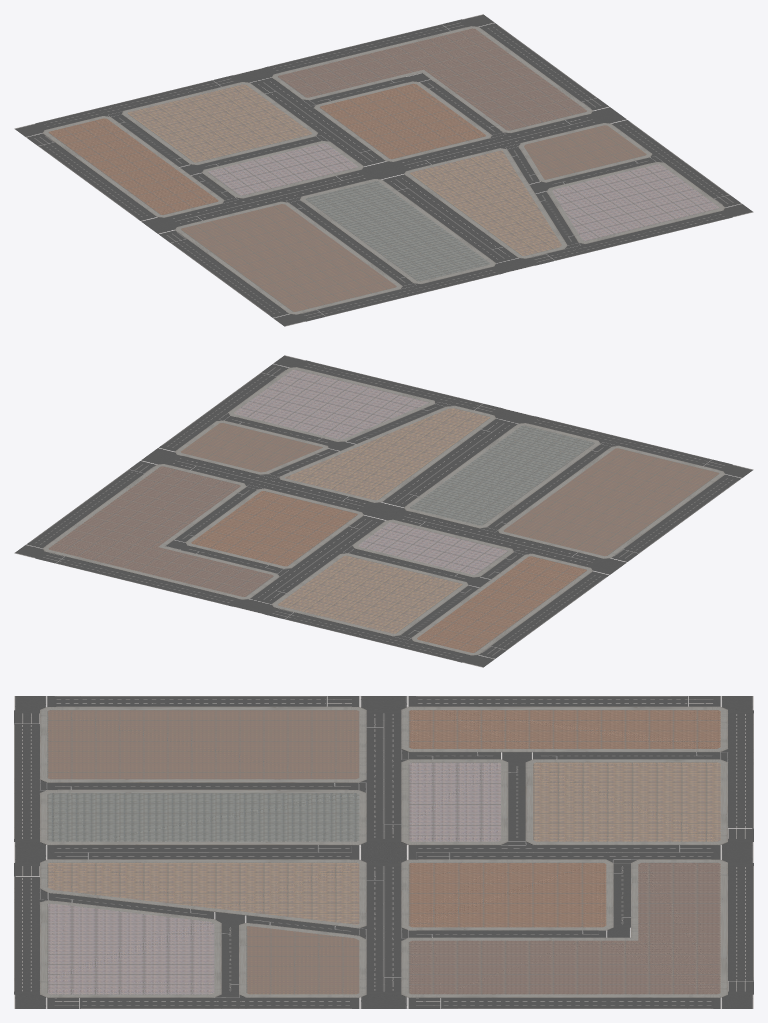
Rendered from Ground_FV.obj.
3 views of the same model, one above another, from view 1: azimuth 30°, elevation 25°; view 2: azimuth 150°, elevation 25°; view 3: azimuth 270°, elevation 25° (orthographic). The views are drawn at different scales.
Parts seen in each view (by area): view 1: GD_1, GD_6_2, GD_5, GD_3_2, GD_3_1, GD_4_1, GD_2_1, GD_2_2, GD_4_2, GD_6_1, PW_4, PW_6 (+25 smaller); view 2: GD_1, GD_6_2, GD_5, GD_3_2, GD_3_1, GD_4_1, GD_2_1, GD_2_2, GD_4_2, GD_6_1, PW_4, PW_6 (+25 smaller); view 3: GD_1, GD_6_2, GD_5, GD_3_2, GD_3_1, GD_4_1, GD_2_1, GD_2_2, GD_4_2, GD_6_1, PW_4, PW_6 (+40 smaller).
Boxes of the visible parts, left/top/right/bottom form: GD_1: left=278, top=28, right=586, bottom=130; GD_6_2: left=181, top=204, right=396, bottom=311; GD_5: left=305, top=181, right=490, bottom=281; GD_3_2: left=127, top=84, right=312, bottom=162; GD_3_1: left=410, top=150, right=561, bottom=255; GD_4_1: left=552, top=164, right=719, bottom=241; GD_2_1: left=319, top=83, right=485, bottom=159; GD_2_2: left=48, top=118, right=218, bottom=215; GD_4_2: left=208, top=143, right=357, bottom=195; GD_6_1: left=524, top=125, right=646, bottom=179; PW_4: left=272, top=26, right=592, bottom=133; PW_6: left=175, top=201, right=402, bottom=314; GD_1: left=48, top=466, right=273, bottom=596; GD_6_2: left=503, top=448, right=719, bottom=556; GD_5: left=410, top=425, right=594, bottom=525; GD_3_2: left=277, top=555, right=462, bottom=633; GD_3_1: left=285, top=408, right=489, bottom=500; GD_4_1: left=234, top=369, right=429, bottom=439; GD_2_1: left=191, top=491, right=357, bottom=566; GD_2_2: left=417, top=556, right=586, bottom=652; GD_4_2: left=358, top=522, right=507, bottom=574; GD_6_1: left=181, top=423, right=322, bottom=472; PW_4: left=42, top=464, right=279, bottom=599; PW_6: left=498, top=445, right=725, bottom=558; GD_1: left=408, top=862, right=720, bottom=994; GD_6_2: left=47, top=710, right=359, bottom=779; GD_5: left=47, top=793, right=359, bottom=841; GD_3_2: left=533, top=762, right=720, bottom=841; GD_3_1: left=47, top=862, right=359, bottom=924; GD_4_1: left=47, top=903, right=214, bottom=994; GD_2_1: left=408, top=862, right=606, bottom=927; GD_2_2: left=408, top=710, right=720, bottom=748; GD_4_2: left=408, top=762, right=500, bottom=841; GD_6_1: left=246, top=926, right=359, bottom=994; PW_4: left=401, top=859, right=727, bottom=997; PW_6: left=40, top=706, right=366, bottom=782.
Size of the model in its own units: 984 by 0.4921 by 984.
